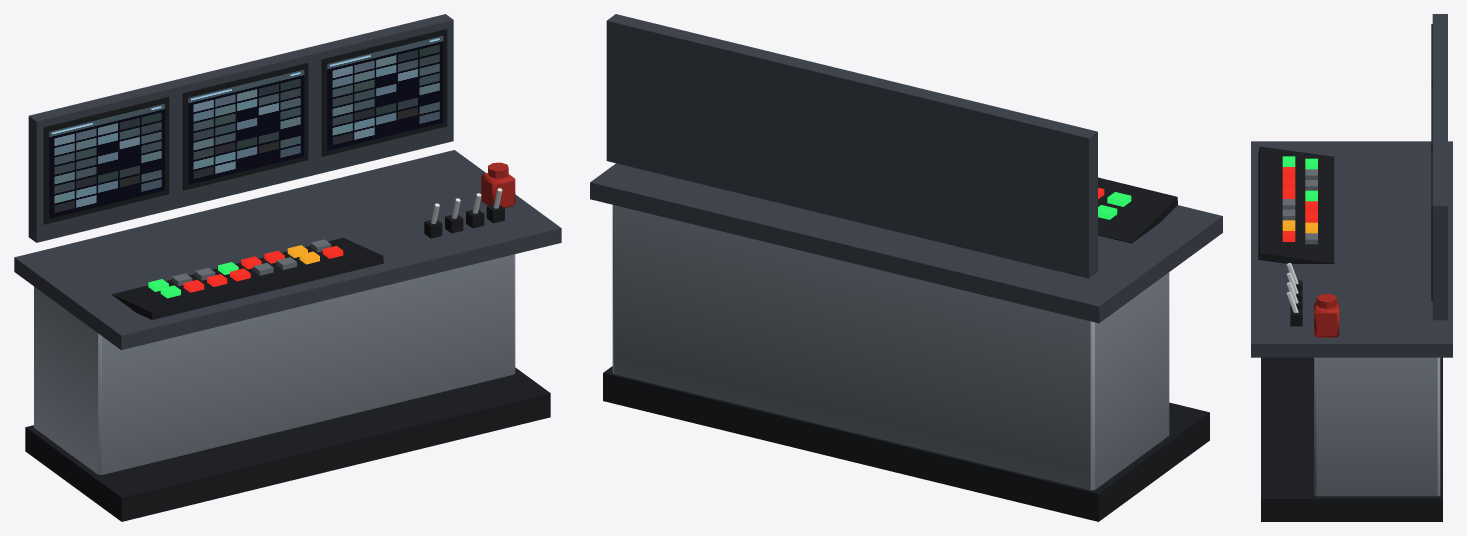
The model's file is cell_control_desk.glb.
3 renders of one model, left to right at view 1: azimuth 30°, elevation 25°; view 2: azimuth 150°, elevation 25°; view 3: azimuth 270°, elevation 25°, orthographic. The views are drawn at different scales.
Parts seen in each view (by area): view 1: cell_control_desk; view 2: cell_control_desk; view 3: cell_control_desk.
Part boxes in pixels (box(x1,y1,x2,y2)): cell_control_desk: box(14, 14, 561, 521); cell_control_desk: box(590, 14, 1222, 521); cell_control_desk: box(1251, 14, 1452, 521).
Bounding box in the file's own units: 1.9 × 1.37 × 0.8.
Materials: 10 (1 with a texture image).
